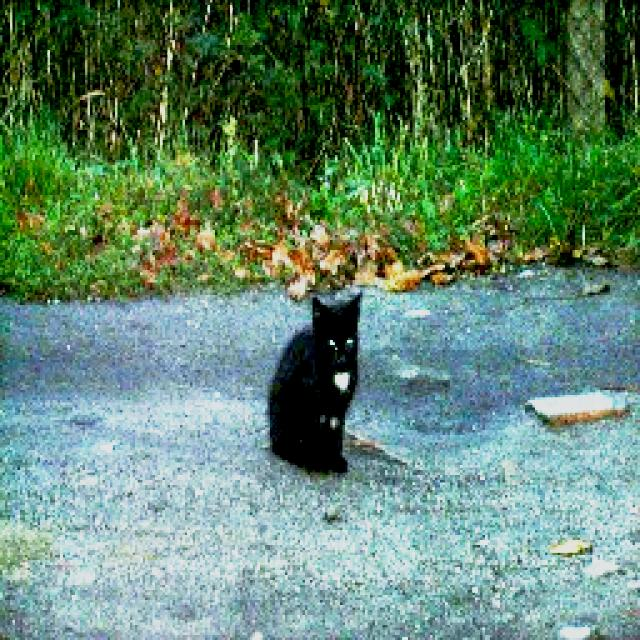cat: (262, 292, 364, 478)
